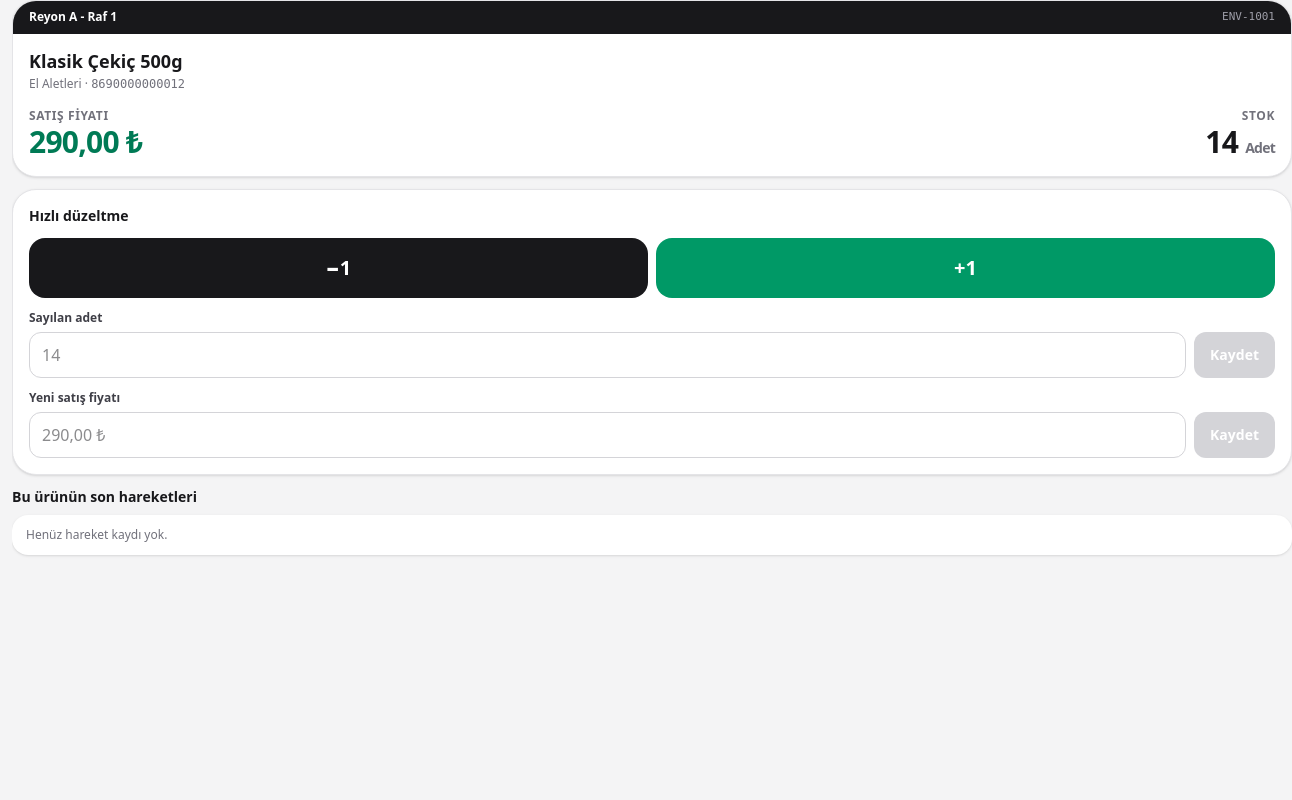
Test: hızlı stok düzeltme › stok sunucu yanıtını beklemeden düşer (iyimser güncelleme)
The width and height of the screenshot is (1292, 800).
Step 1. Click the button "−1" → (338, 268), box [29,238,648,298]
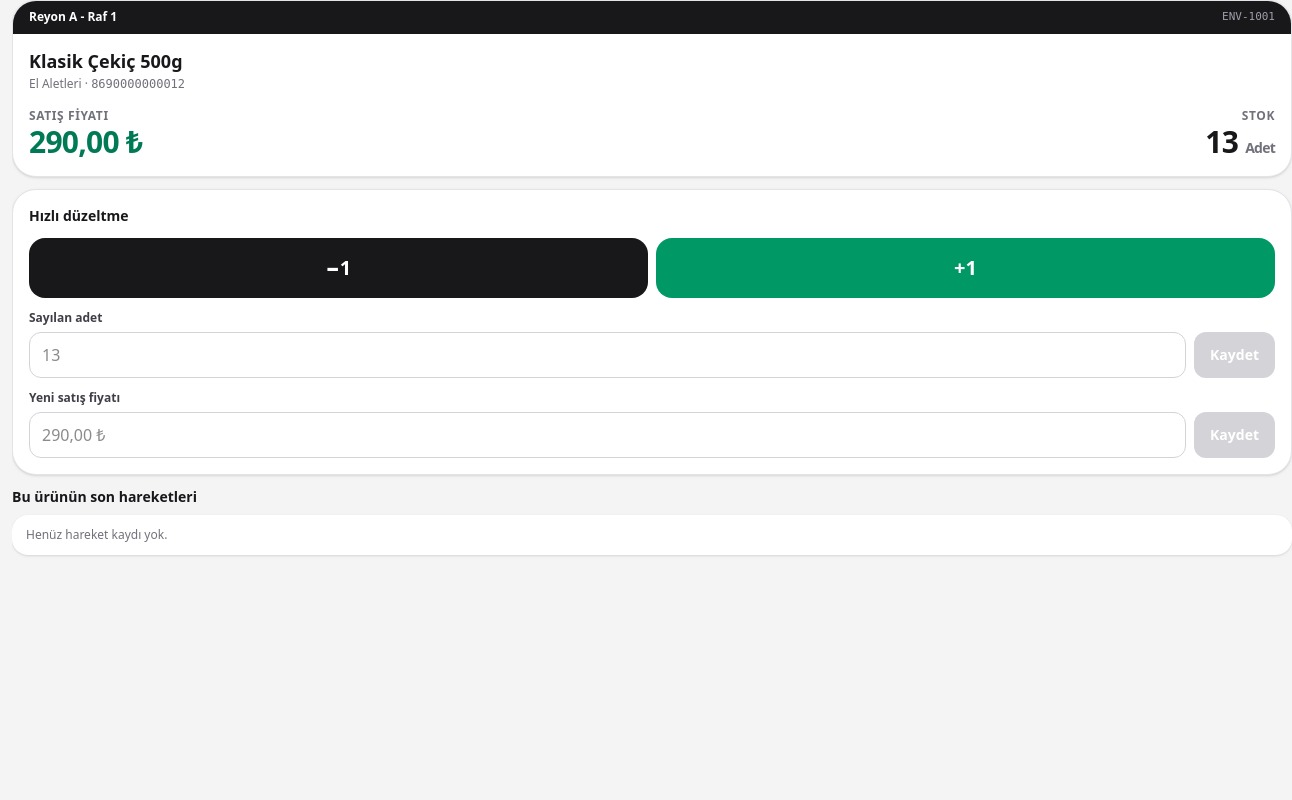
Now the element showing "13 Adet" is shown, box [1205,124,1275,160]
